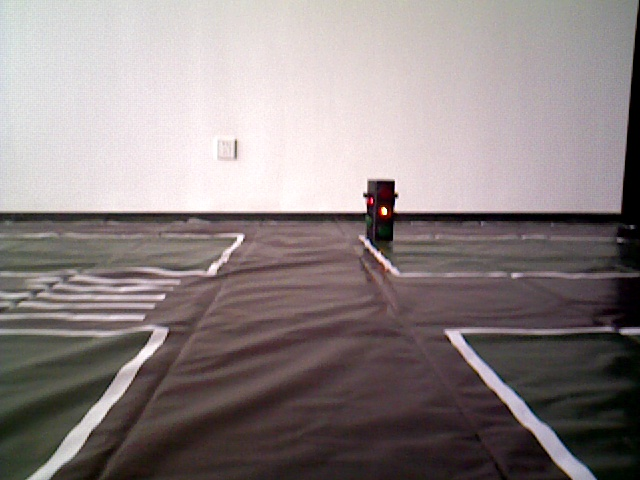yellow: (365, 175, 396, 244)
